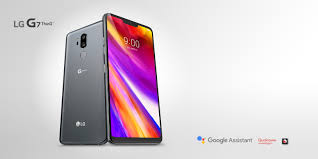lg: (57, 20, 112, 146)
